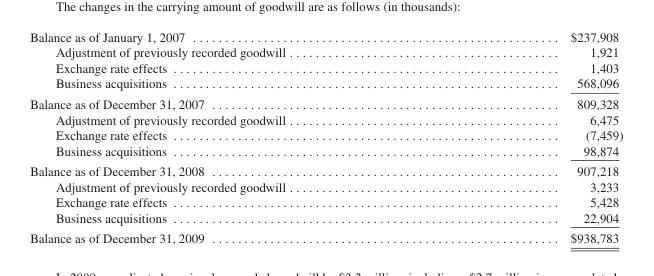table: (29, 29, 622, 245)
table column: (29, 29, 427, 245), (427, 29, 622, 245)
table row: (29, 75, 622, 93), (29, 93, 622, 111), (29, 142, 622, 160), (29, 160, 622, 178), (29, 209, 622, 227), (29, 227, 622, 245), (29, 59, 622, 75), (29, 126, 622, 142), (29, 178, 622, 194), (29, 29, 622, 44), (29, 44, 622, 59), (29, 111, 622, 126), (29, 194, 622, 209)
